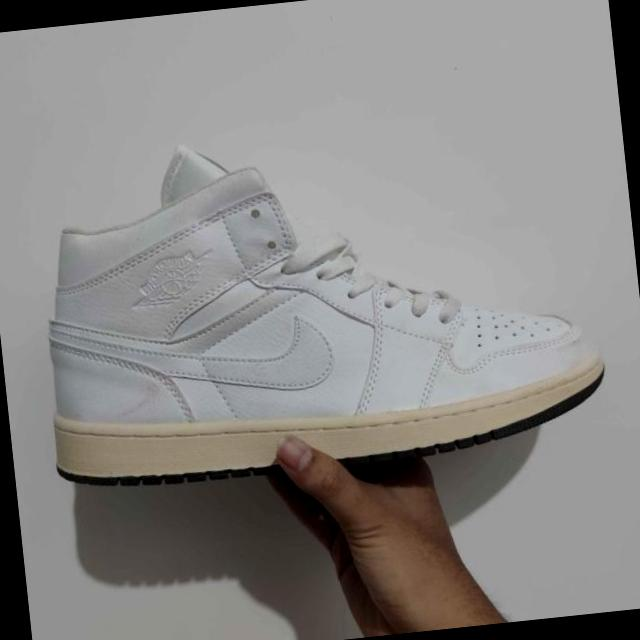nike_fake_jordan: (18, 100, 617, 493)
